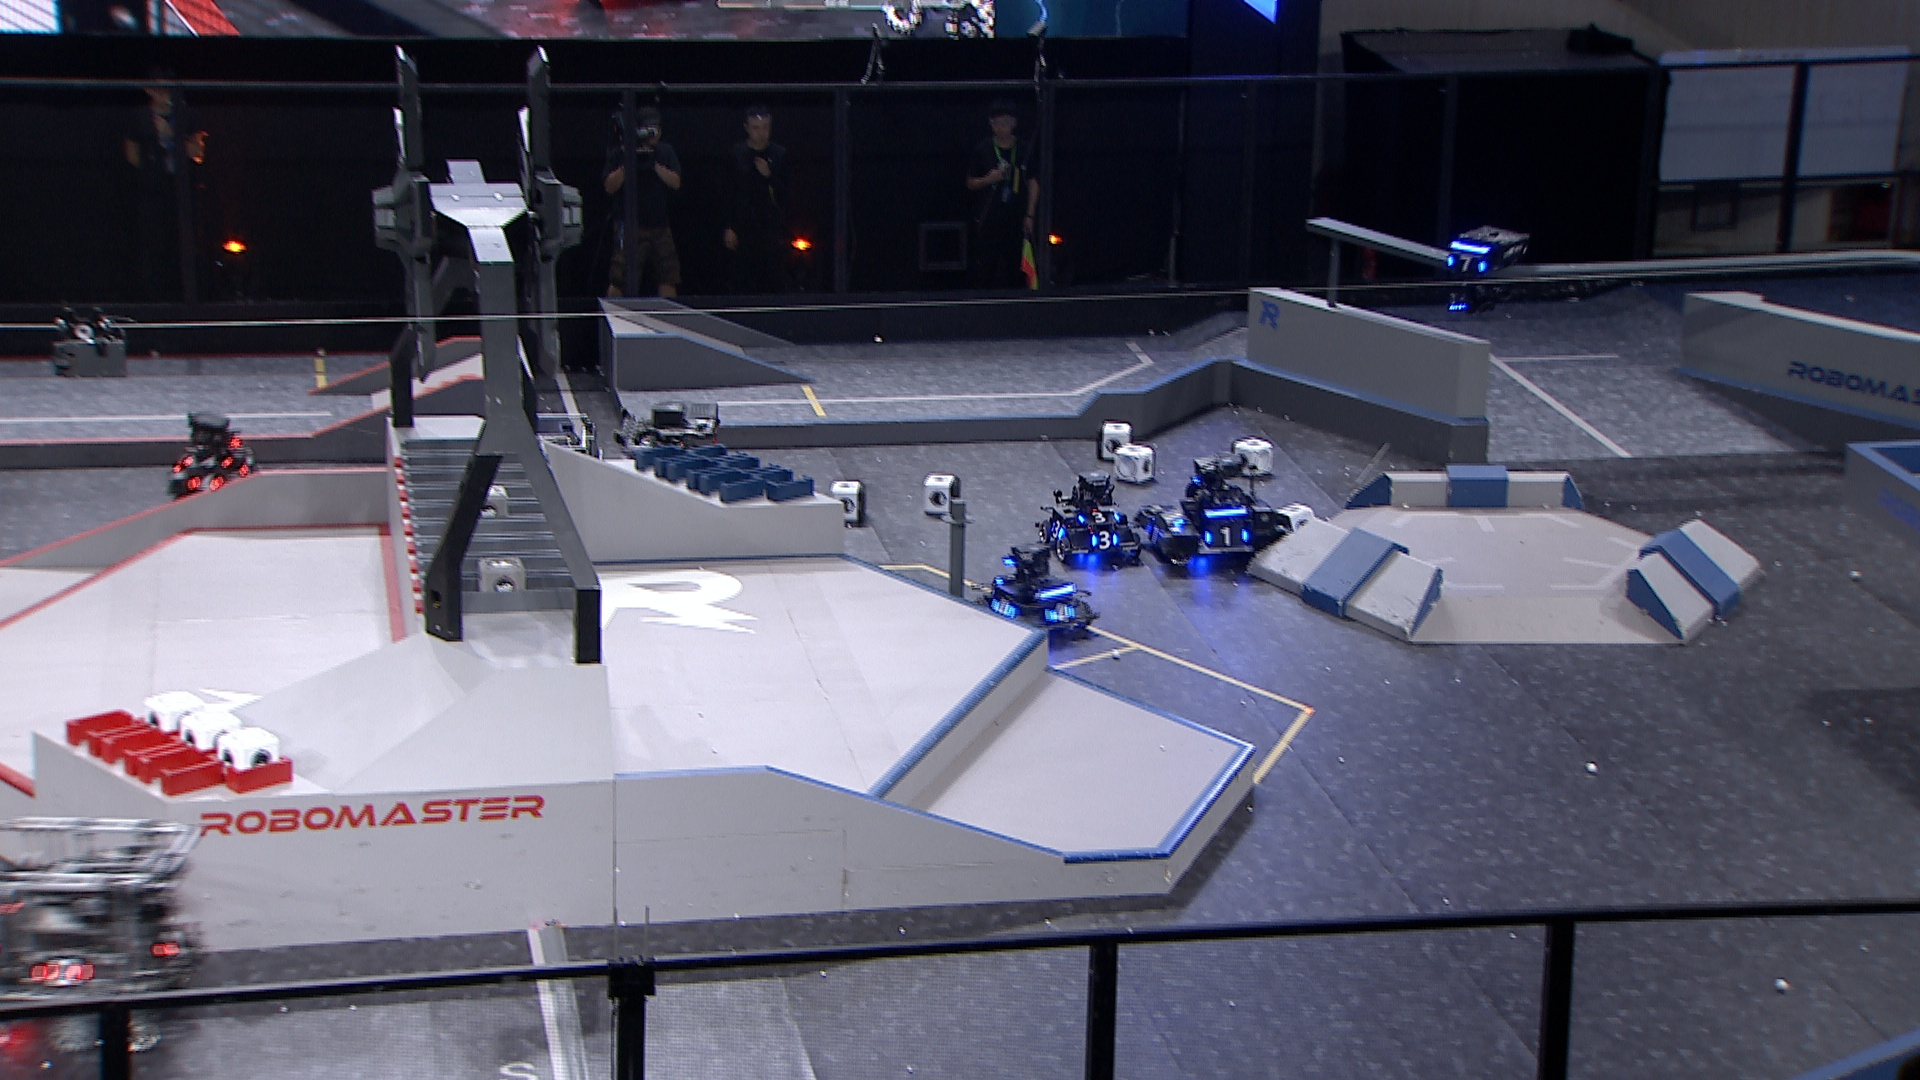armor: (40, 959, 87, 982), (1203, 527, 1247, 547), (185, 454, 231, 471), (156, 928, 181, 957), (1448, 255, 1484, 273), (1044, 603, 1077, 622), (1145, 522, 1168, 546), (1160, 506, 1185, 527), (988, 595, 1013, 616), (191, 476, 220, 491), (1048, 517, 1065, 541), (1081, 509, 1116, 520), (1093, 531, 1116, 547)
car: (1141, 452, 1294, 578), (615, 400, 767, 509), (964, 543, 1095, 647), (512, 404, 626, 508), (160, 405, 262, 509), (1036, 471, 1141, 570)
watcher: (1437, 223, 1538, 320)
